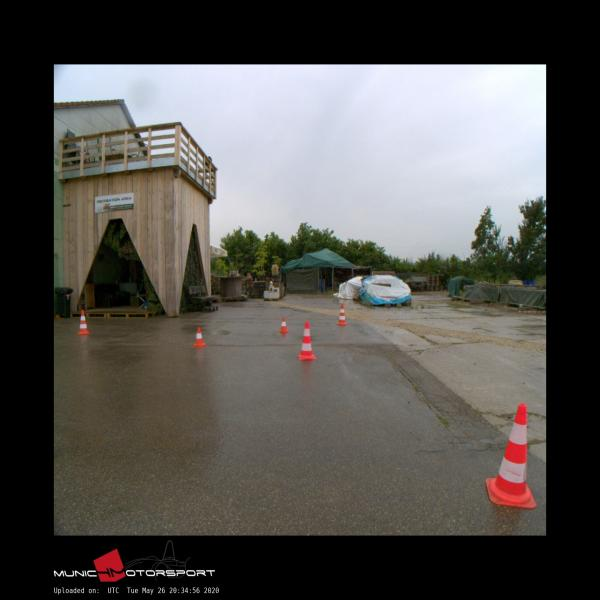large_orange_cone: (486, 404, 535, 508), (297, 321, 315, 359), (77, 309, 89, 333), (336, 304, 347, 324)
orange_cone: (193, 327, 206, 346), (279, 317, 288, 332)
